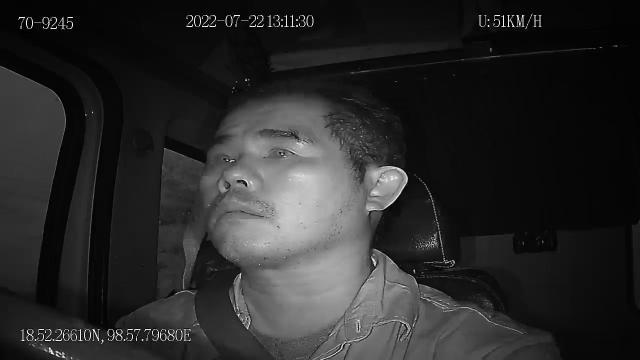SafeDriving: (256, 134, 304, 165)
Seatbelt: (192, 272, 278, 360)
